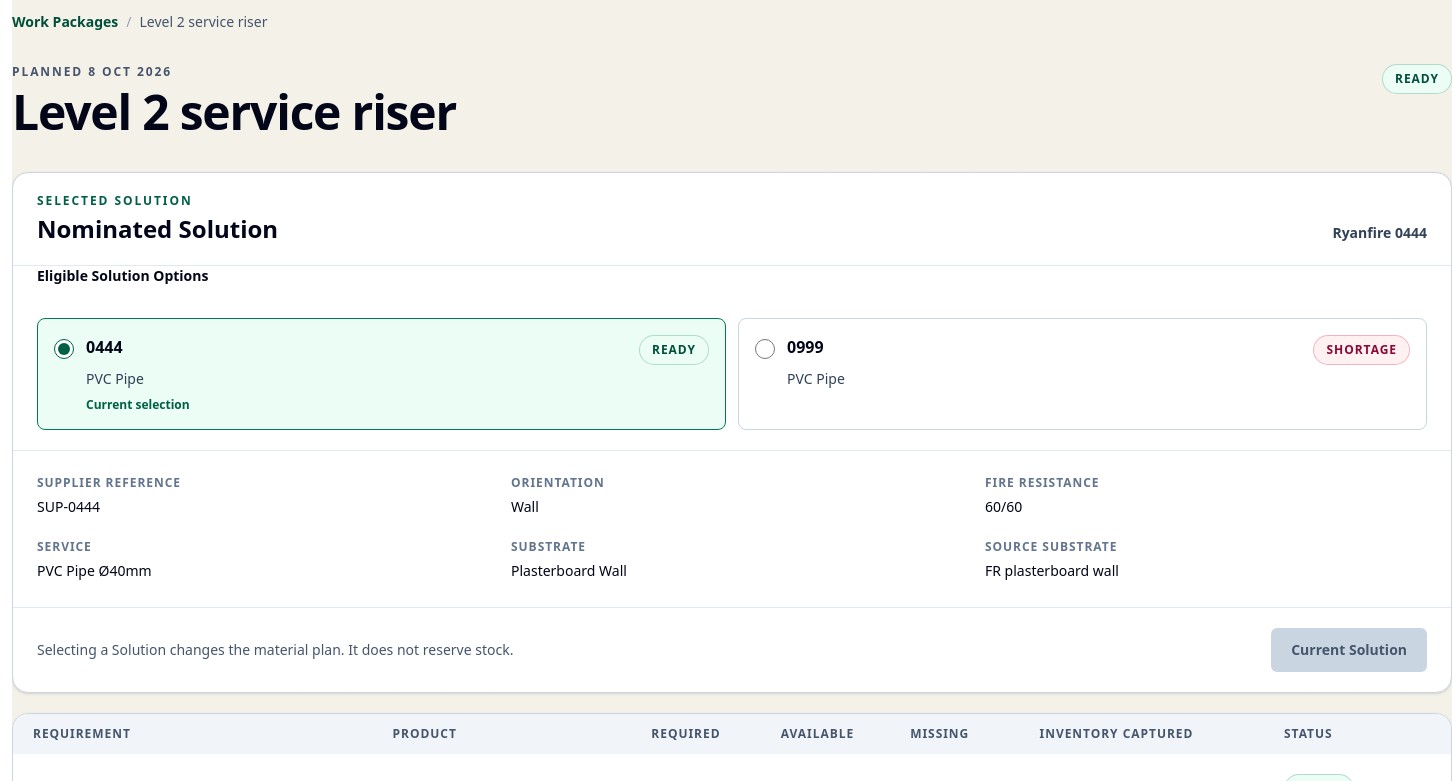
Scenario: WorkPackage Solution selection › shows an honest pending state while a selection is being saved
The width and height of the screenshot is (1452, 781).
Click the radio button labelled "0999 SHORTAGE PVC Pipe".
click(765, 349)  # box [755,339,775,359]
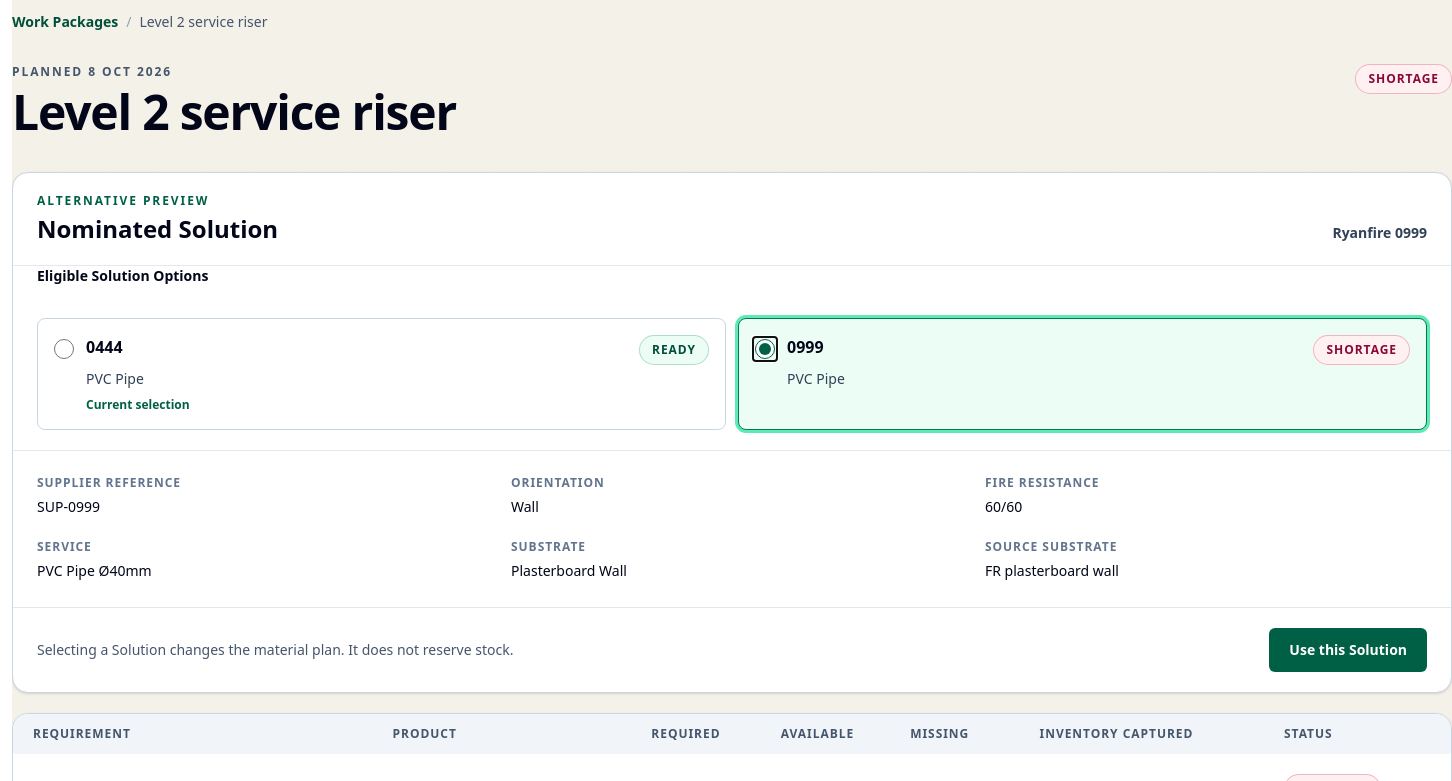
Click the button "Use this Solution".
click(1348, 650)  # box [1269,628,1427,672]
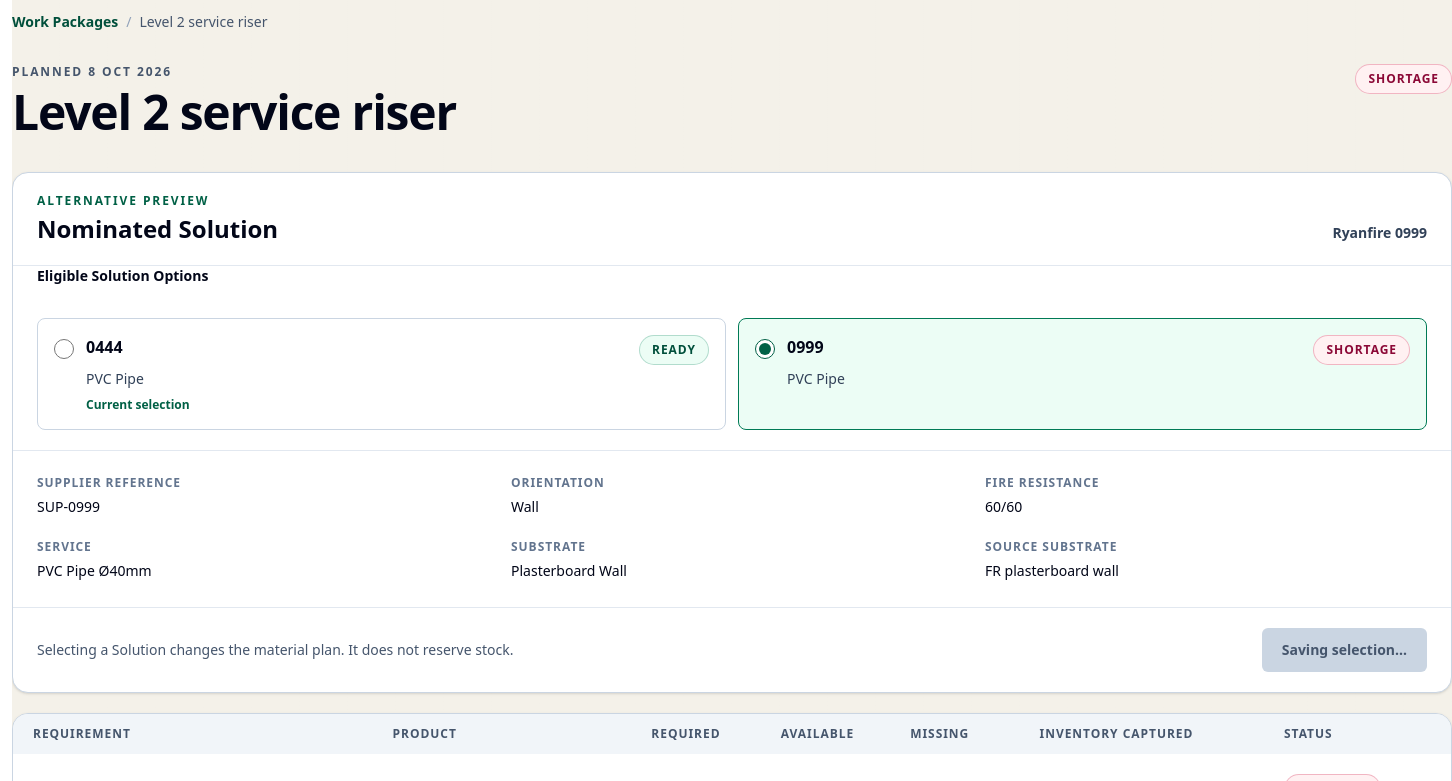
Now the button "Saving selection…" is disabled, box [1262,628,1427,672]
